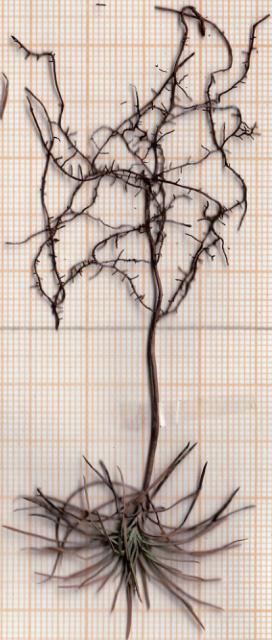flower: (0, 437, 265, 640)
root: (0, 0, 272, 333)
stem: (128, 316, 173, 494)
